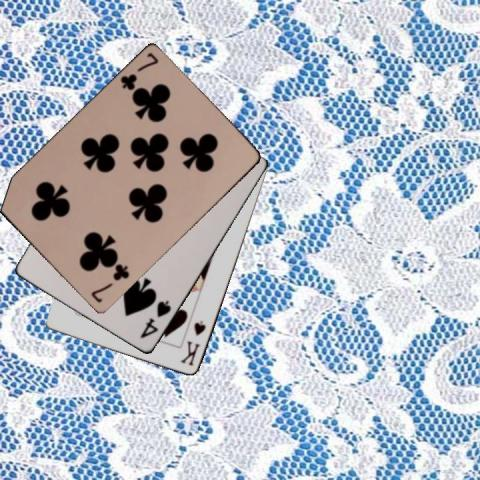4s: (137, 297, 173, 341)
7c: (88, 262, 131, 305), (117, 50, 160, 93)
Ks: (178, 317, 208, 368)
